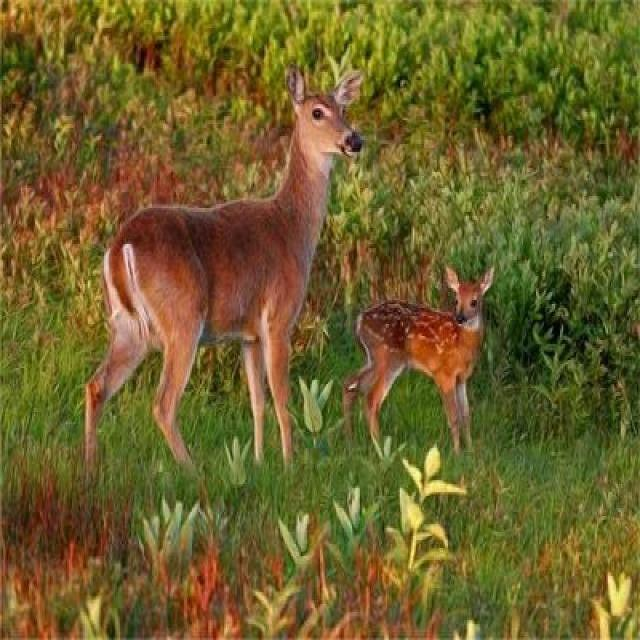deer: (92, 56, 424, 517), (350, 257, 522, 494)
